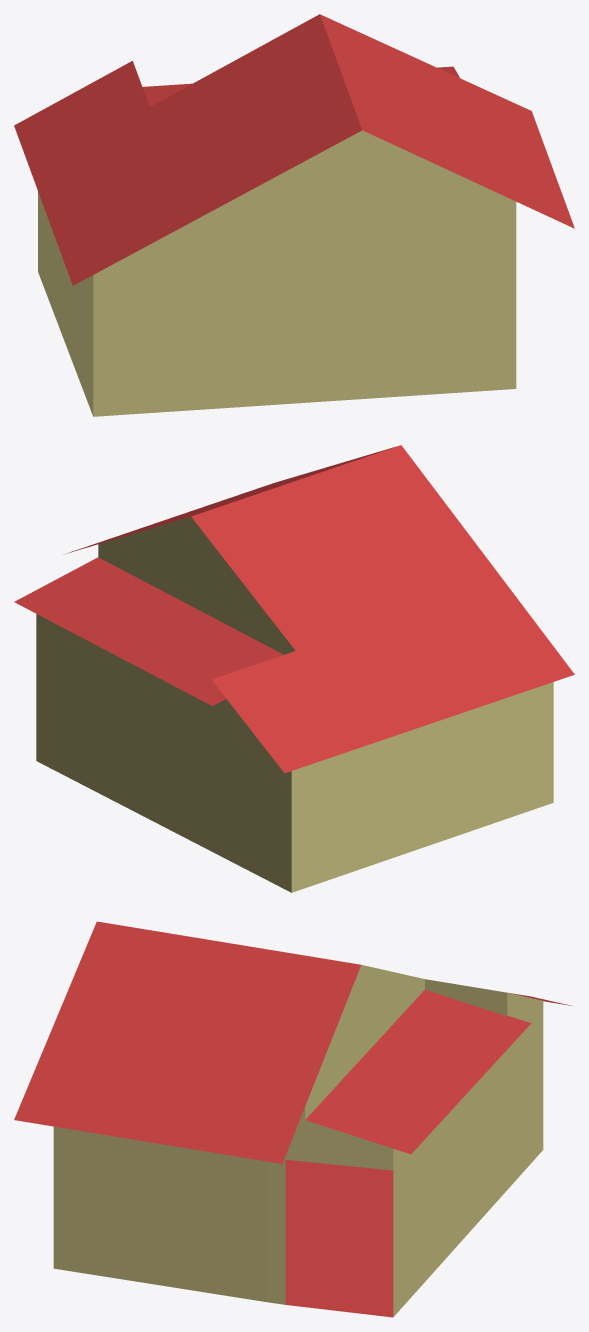
3 views of the same model, one above another, from view 1: azimuth 30°, elevation 25°; view 2: azimuth 150°, elevation 25°; view 3: azimuth 270°, elevation 25° (orthographic). The views are drawn at different scales.
Size of the model in its own units: 28.42 by 27.37 by 15.13.
